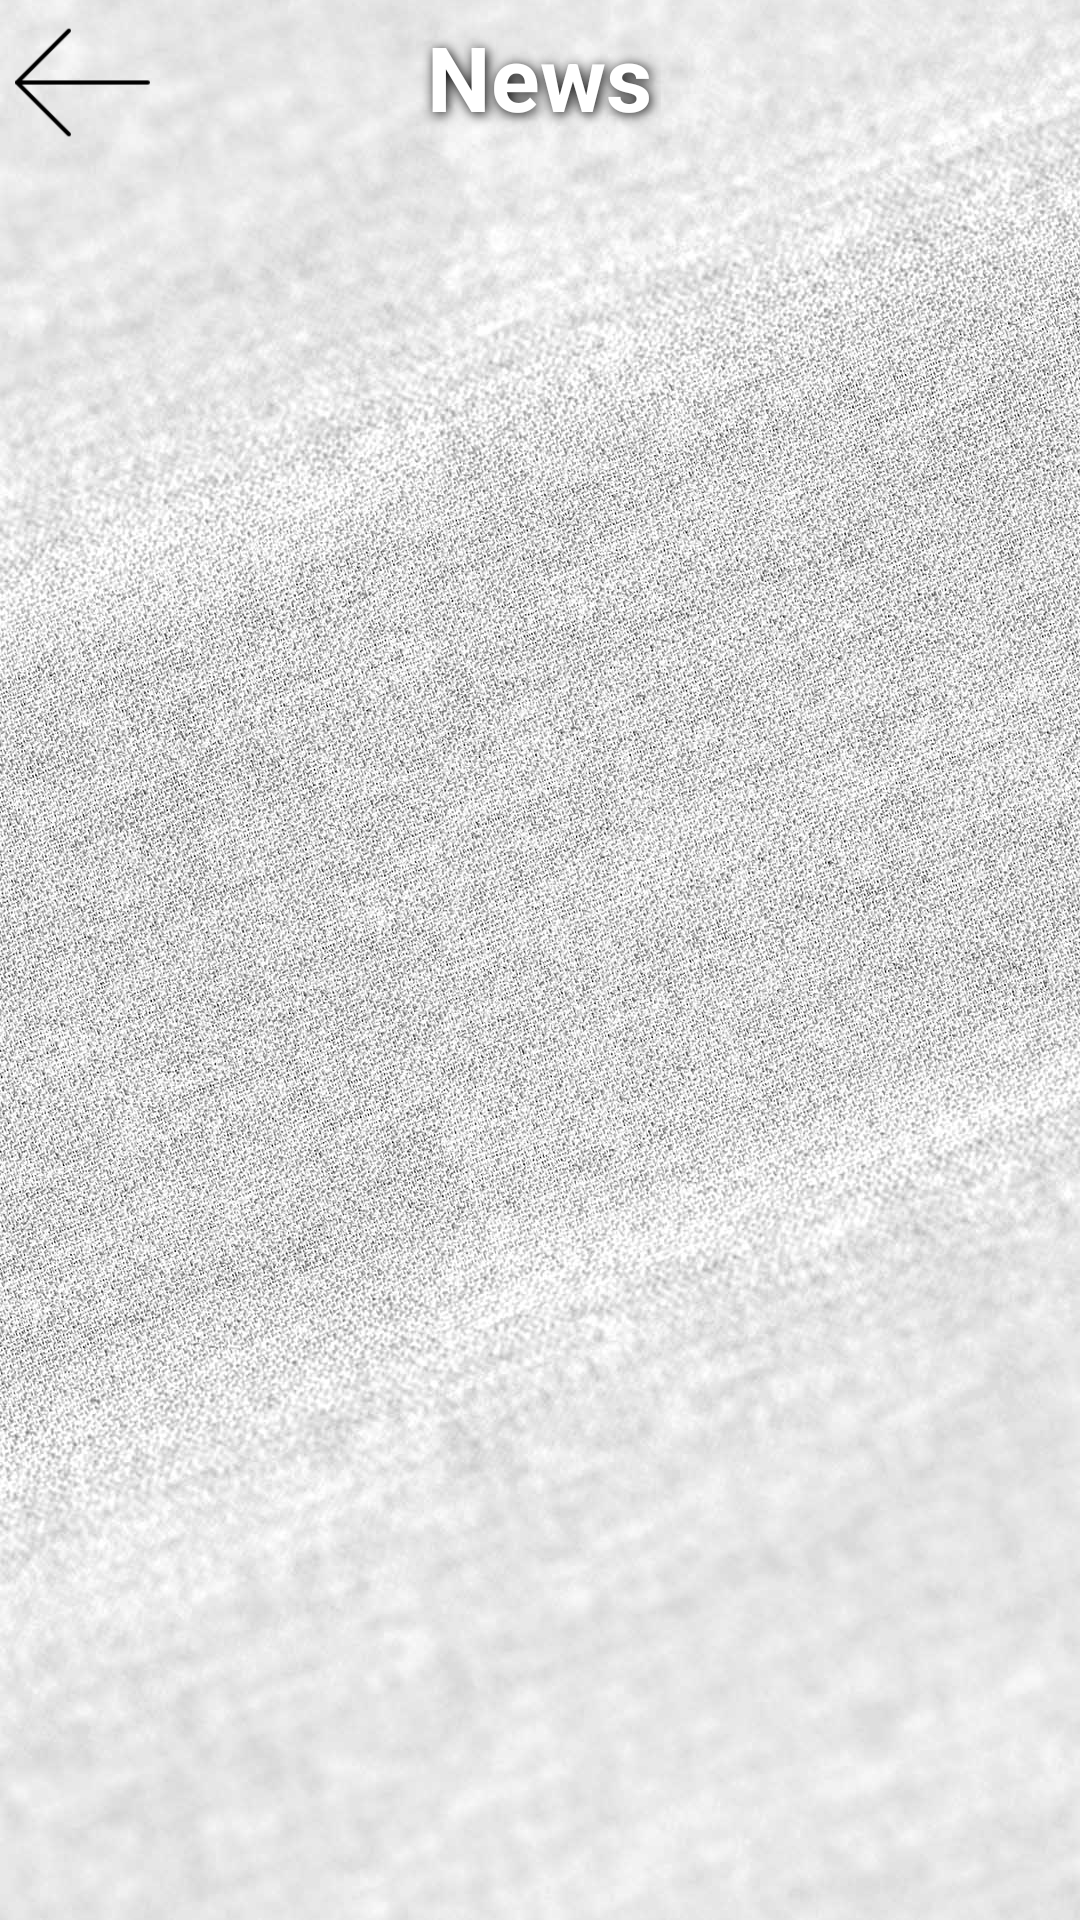

Icon bounding boxes for this 1080×1920 phone screenshot, format box=[x1, y1, x2, y2]:
back: box=[15, 28, 150, 137]
